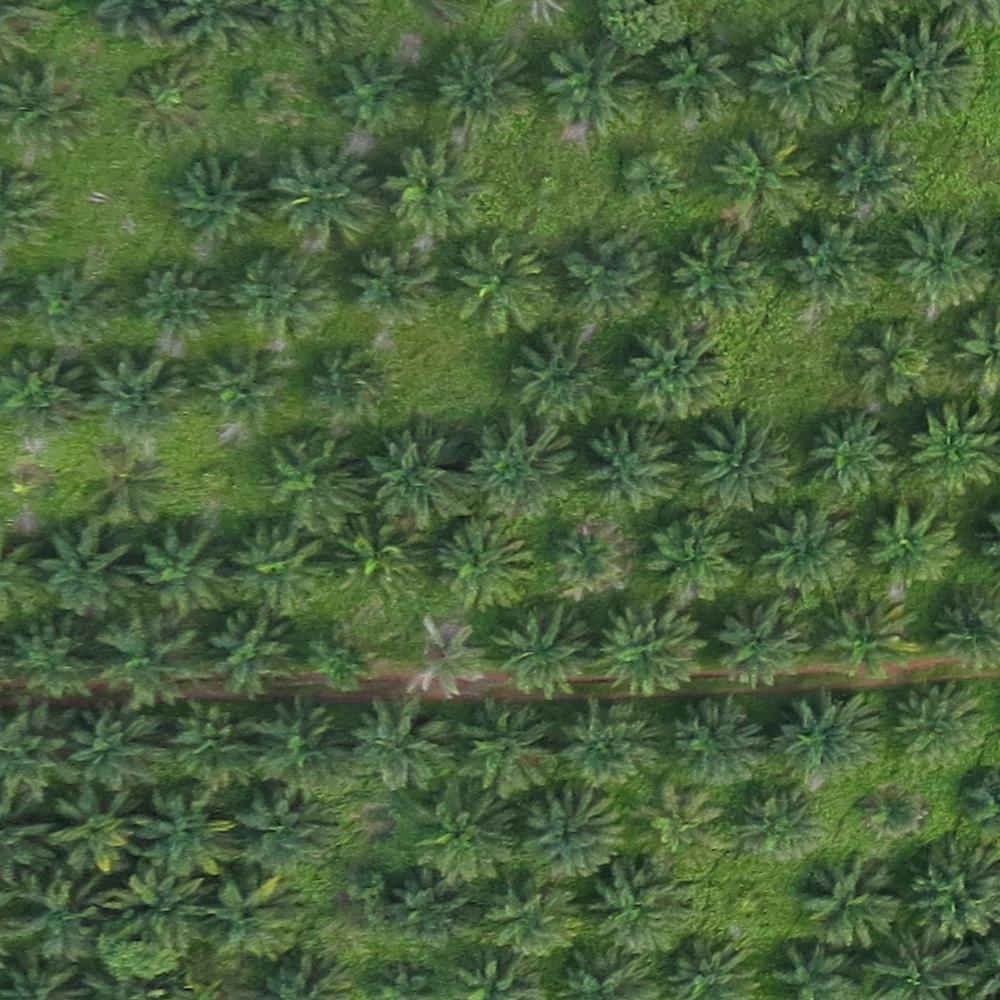Palm: (337, 695, 455, 798), (869, 16, 978, 122), (368, 421, 473, 527), (746, 21, 858, 119), (379, 142, 491, 238), (467, 425, 575, 523), (432, 513, 536, 613), (452, 702, 566, 793), (408, 786, 516, 882), (688, 414, 794, 510), (227, 516, 329, 614), (617, 326, 731, 413), (775, 698, 880, 792), (267, 146, 373, 239), (561, 222, 662, 319), (235, 781, 336, 878), (900, 832, 995, 933), (229, 251, 338, 339), (489, 601, 591, 695), (538, 39, 646, 127), (506, 324, 608, 417), (602, 599, 700, 695), (269, 434, 364, 532), (891, 210, 989, 304), (133, 790, 236, 879), (520, 789, 616, 884), (65, 702, 163, 794), (756, 509, 857, 598), (645, 501, 741, 594), (587, 416, 678, 513), (445, 243, 544, 331), (39, 521, 134, 612), (558, 701, 654, 791), (907, 401, 997, 495), (85, 355, 186, 438), (136, 522, 227, 614), (810, 850, 901, 942), (165, 696, 255, 788), (789, 219, 882, 307), (667, 233, 763, 318), (713, 597, 802, 688), (863, 502, 956, 589), (667, 699, 764, 781), (381, 865, 469, 954), (895, 682, 984, 769), (3, 69, 94, 154), (47, 788, 138, 873), (104, 871, 196, 955), (812, 409, 899, 497), (329, 526, 419, 611), (247, 705, 341, 786), (168, 157, 264, 236), (720, 134, 808, 219), (100, 618, 192, 699), (1, 352, 85, 440), (596, 868, 685, 951), (197, 347, 281, 432), (11, 613, 99, 694), (435, 44, 523, 124), (203, 882, 296, 957), (848, 318, 933, 400), (211, 612, 295, 694), (655, 40, 735, 123), (135, 260, 222, 336), (117, 68, 207, 141), (828, 594, 911, 673), (827, 127, 912, 204), (488, 888, 577, 961), (330, 55, 415, 131), (354, 245, 434, 324), (33, 265, 112, 344), (744, 792, 823, 865), (551, 517, 623, 596), (305, 347, 385, 416), (302, 622, 377, 693)
